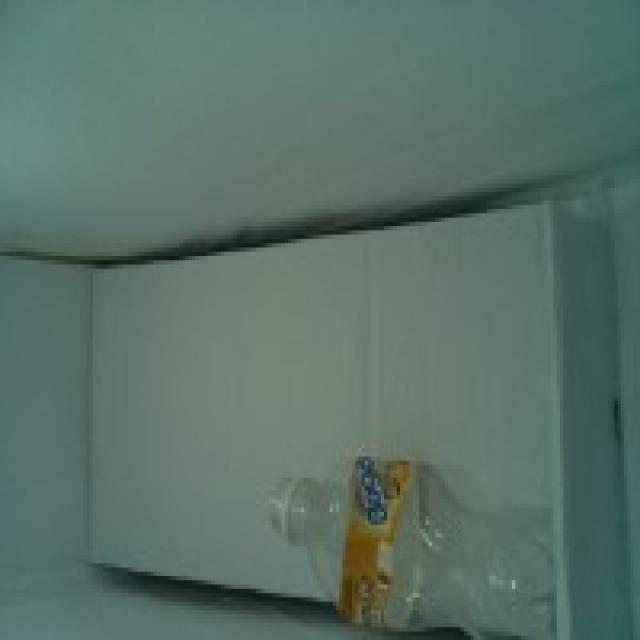plastic_bottle: (271, 458, 556, 640)
